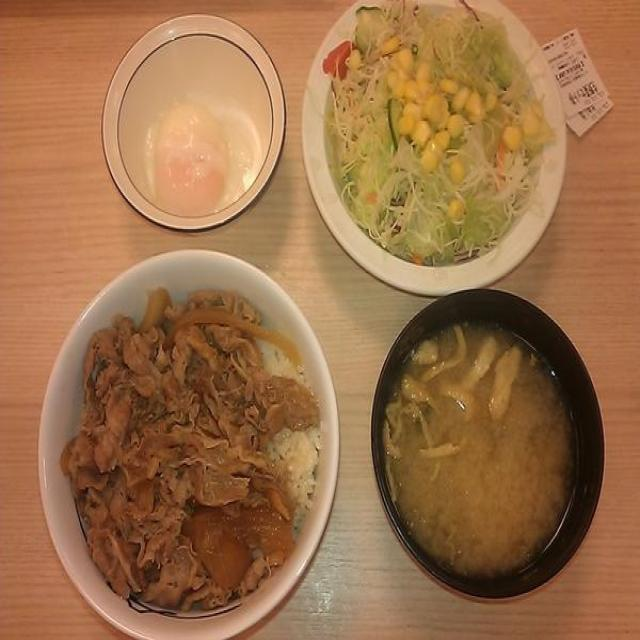Green Salad: (328, 0, 540, 246)
